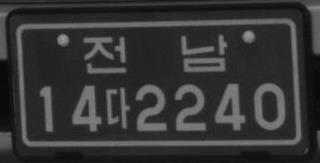0: (252, 81, 286, 132)
1: (35, 85, 60, 132)
2: (174, 82, 207, 133), (135, 82, 168, 132)
4: (213, 82, 246, 132), (70, 83, 102, 132)
다: (105, 85, 131, 129)
전남_D: (82, 32, 229, 75)
